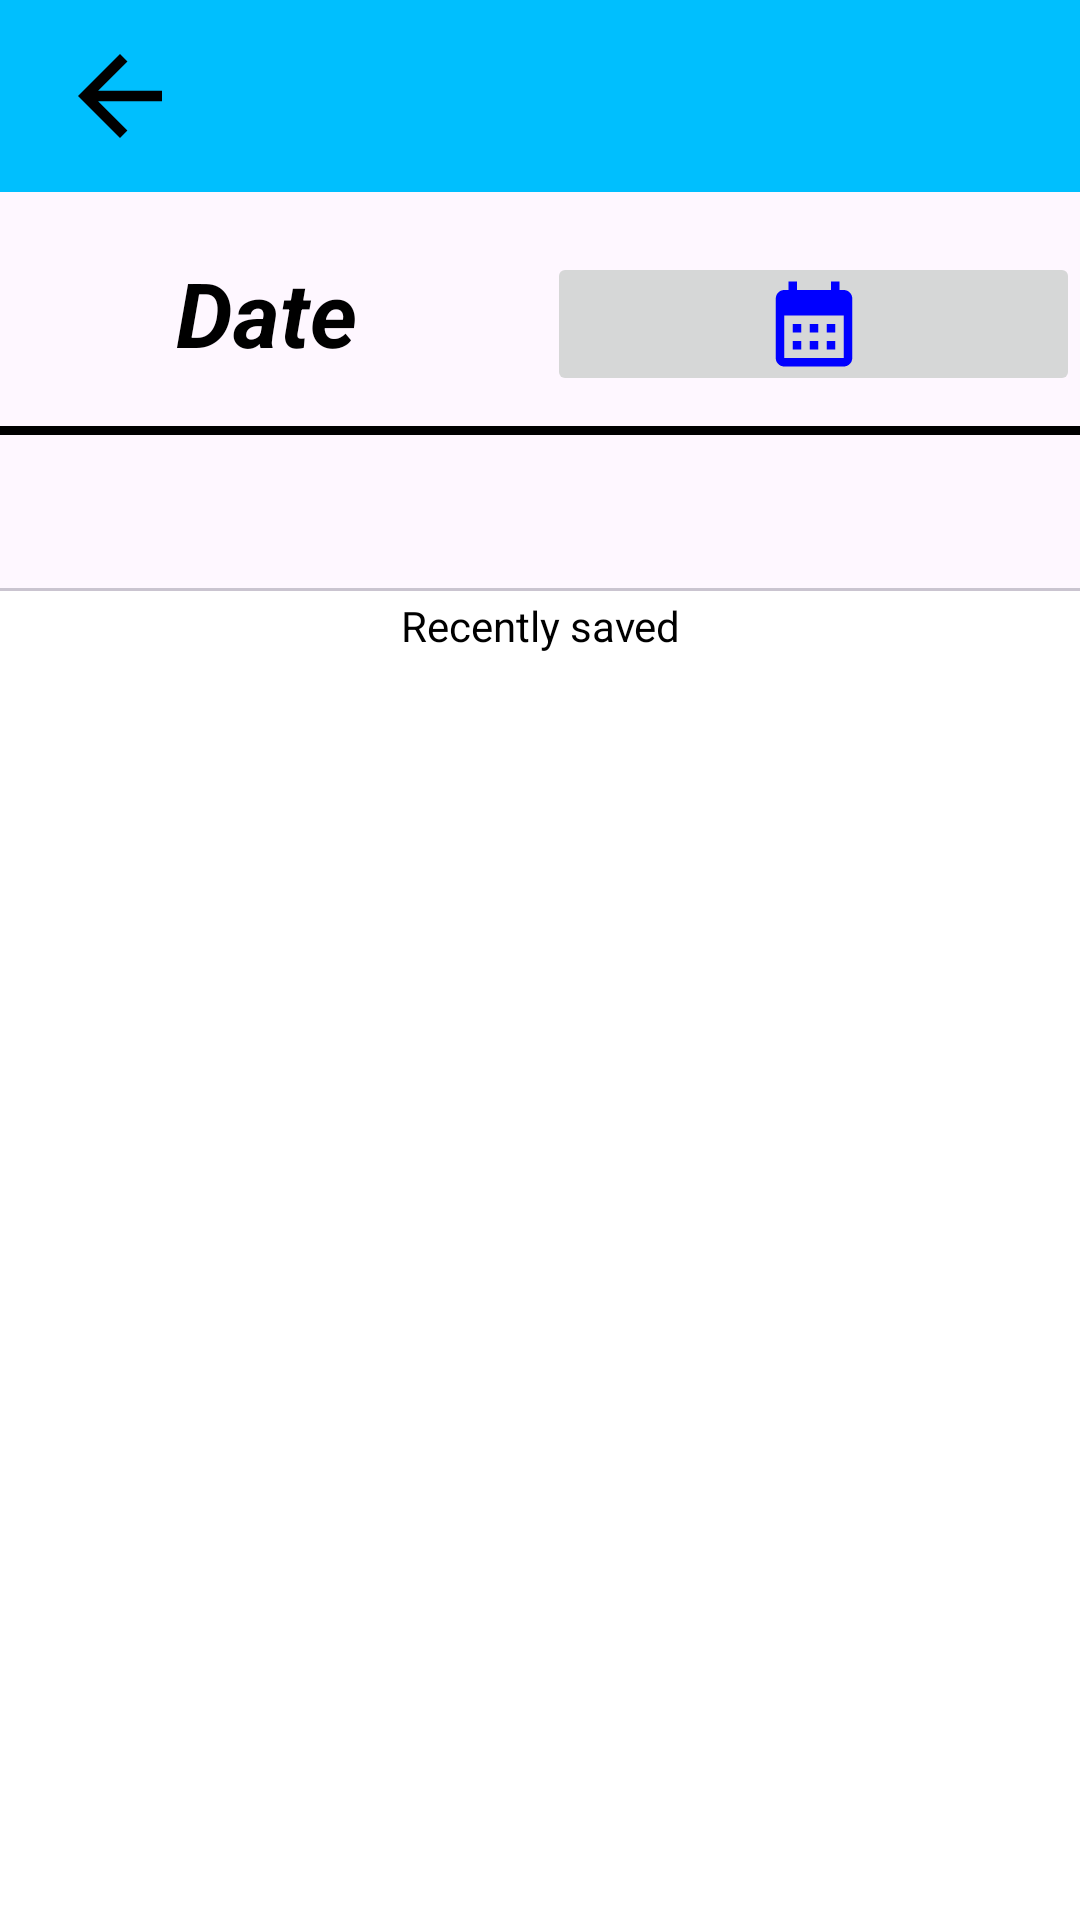

Icons on this 1080*1920 Android screen, each with its box as (x1, y1, x2, y2):
back button: (78, 54, 162, 138)
